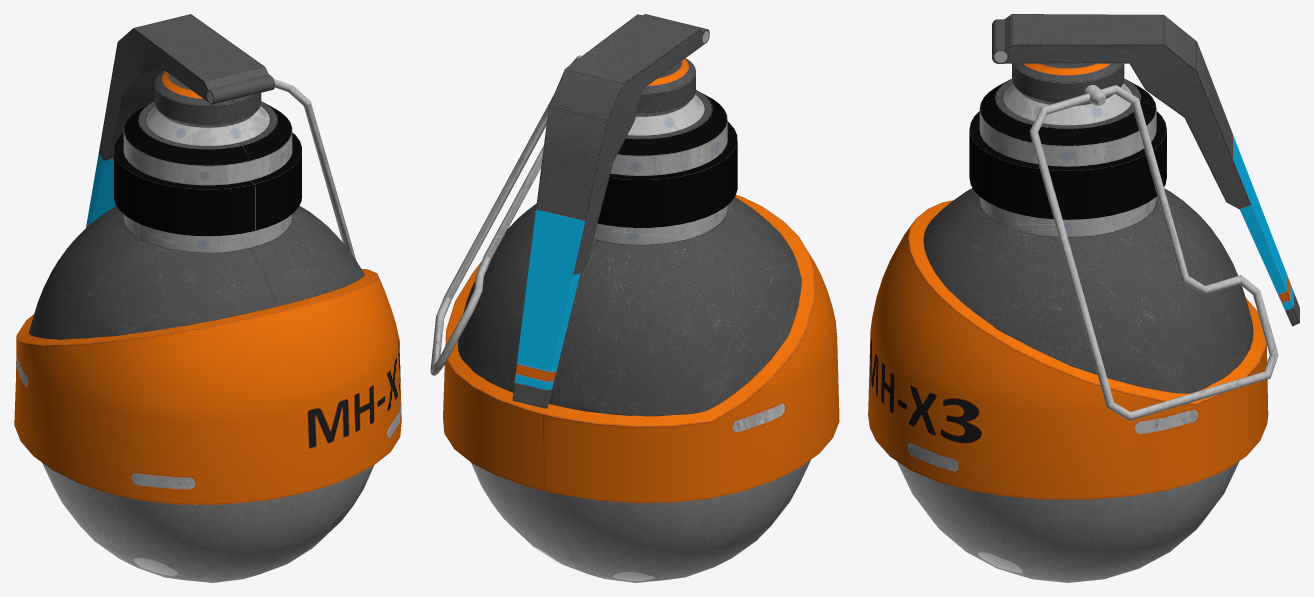
Rendered from gran_1.fbx.
3 renders of one model, left to right at view 1: azimuth 30°, elevation 25°; view 2: azimuth 150°, elevation 25°; view 3: azimuth 270°, elevation 25°, orthographic. The views are drawn at different scales.
Parts seen in each view (by area): view 1: gran1.body, gran1.hand, gran1.key; view 2: gran1.body, gran1.hand, gran1.key; view 3: gran1.body, gran1.hand, gran1.key.
Part boxes in pixels (<box>): gran1.body: <box>14,70,401,582</box>; gran1.hand: <box>86,14,274,227</box>; gran1.key: <box>274,79,356,260</box>; gran1.body: <box>443,58,839,582</box>; gran1.hand: <box>512,14,709,408</box>; gran1.key: <box>430,55,581,375</box>; gran1.body: <box>868,63,1268,582</box>; gran1.hand: <box>992,14,1299,326</box>; gran1.key: <box>1029,85,1278,420</box>.
Size of the model in its own units: 4.22 by 6.14 by 4.48.
Materials: 1 (1 with a texture image).
